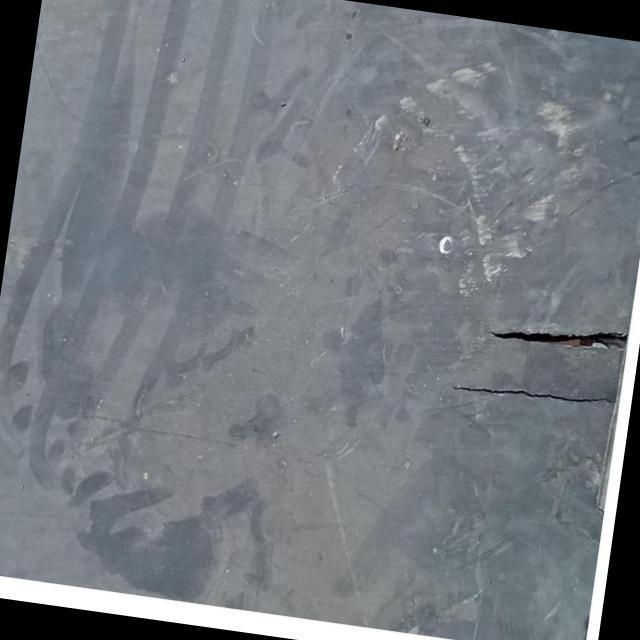Tear: (484, 288, 628, 368), (442, 373, 622, 426)
